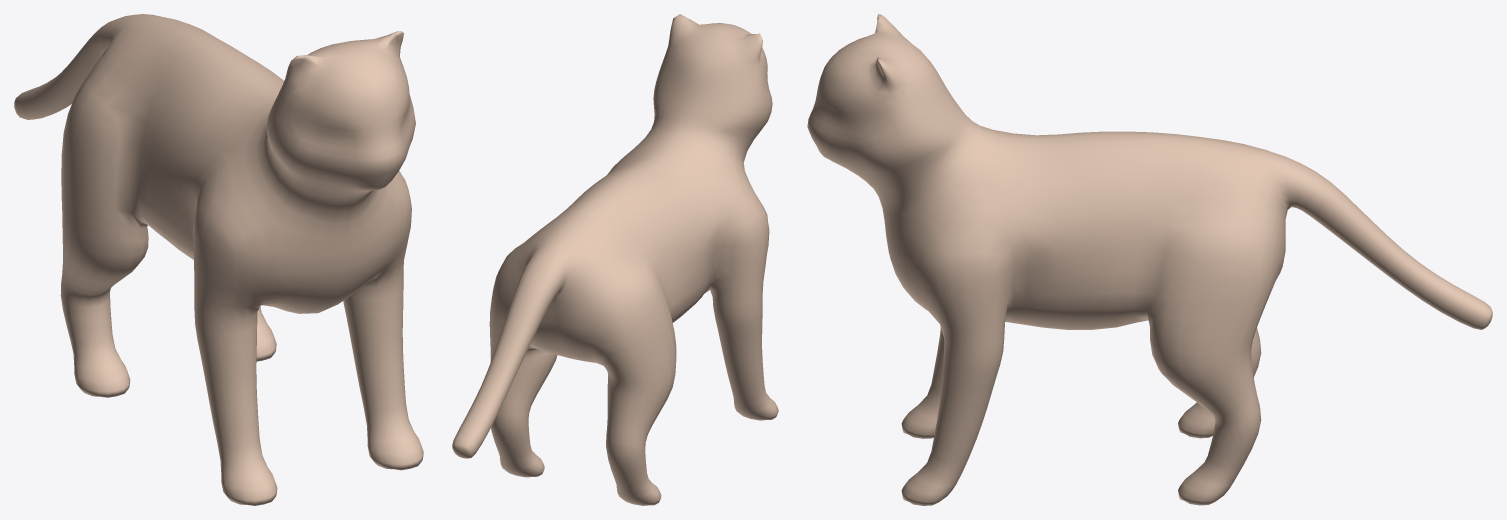
The model's file is Catto.fbx.
3 views of the same model, side by side, from view 1: azimuth 30°, elevation 25°; view 2: azimuth 150°, elevation 25°; view 3: azimuth 270°, elevation 25° (orthographic). The views are drawn at different scales.
Parts seen in each view (by area): view 1: cat; view 2: cat; view 3: cat.
Part boxes in pixels (bbox=[...]): cat: bbox=[14, 14, 423, 505]; cat: bbox=[452, 14, 778, 505]; cat: bbox=[807, 14, 1492, 505].
Size of the model in its own units: 21.7 by 44.04 by 63.98.
